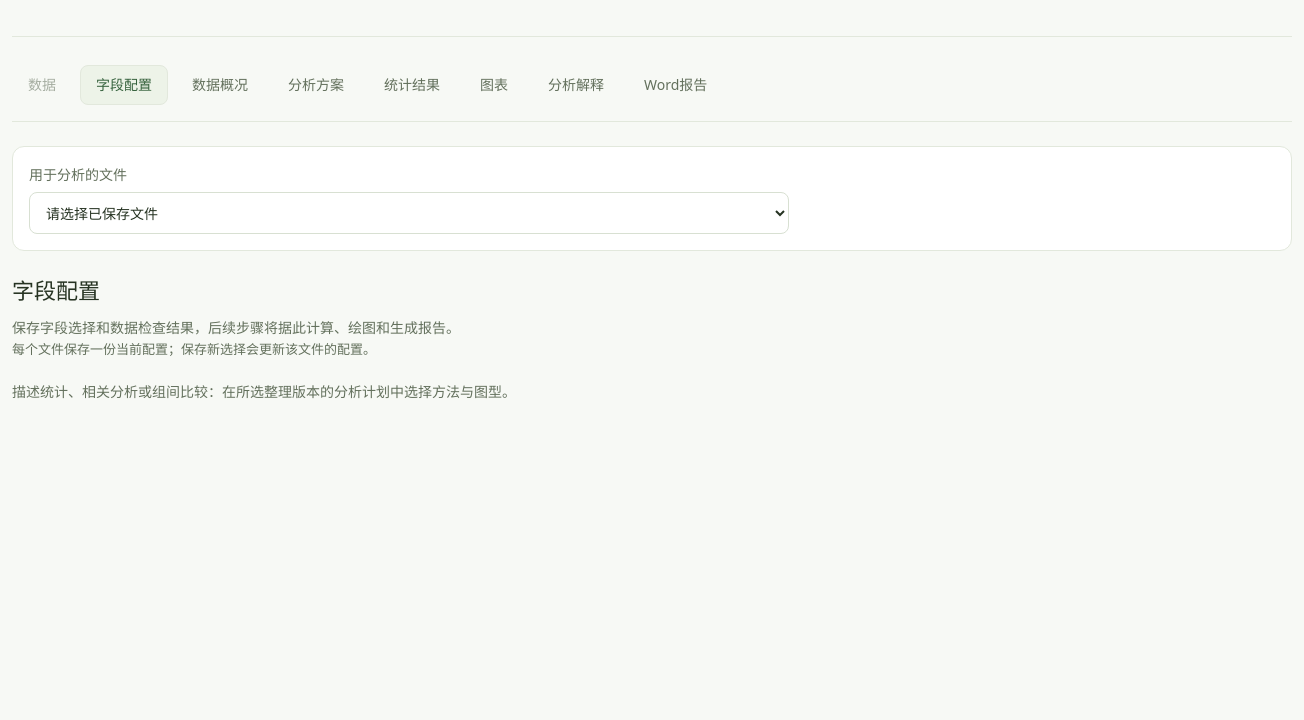
saved dataset execution waits for the dataset profile to load successfully
Select "研究.xlsx · 2026/10/10 01:00:00" in the dropdown labelled "用于分析的文件": coordinates (409, 213) [29,192,789,234]
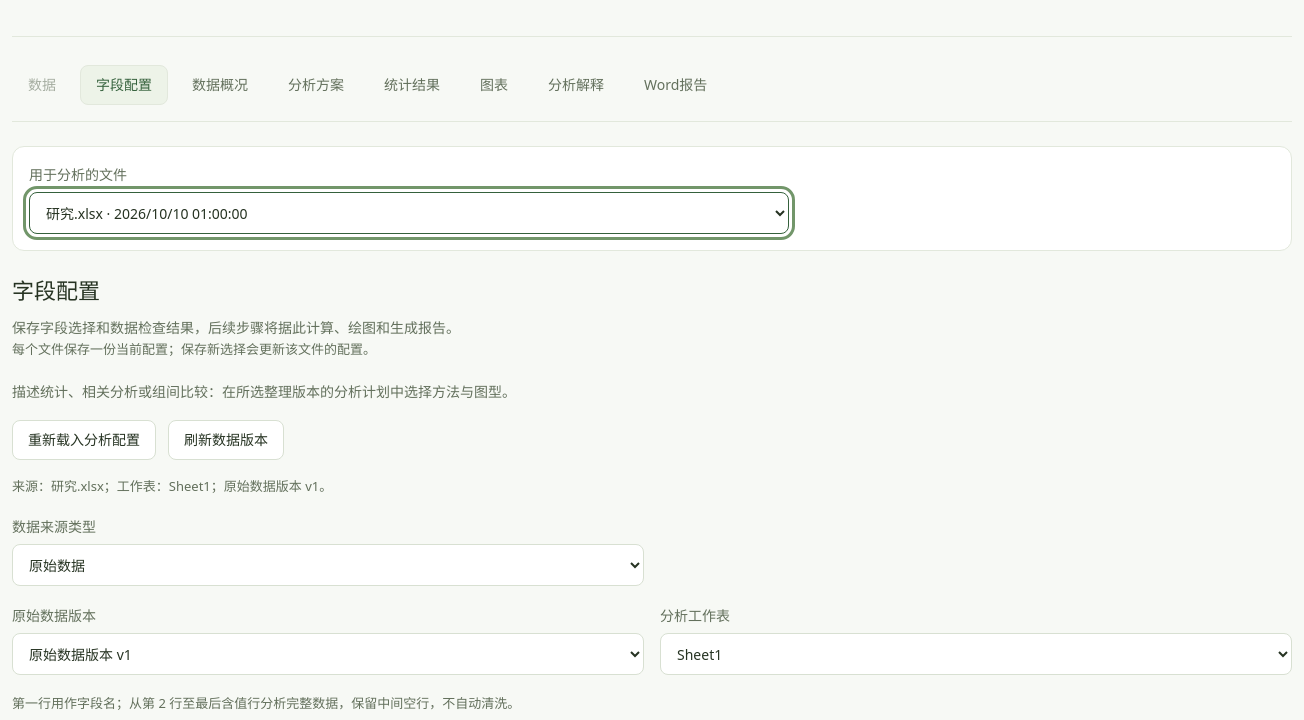
Click the button "统计结果": coordinates (412, 85) [368,65,456,105]
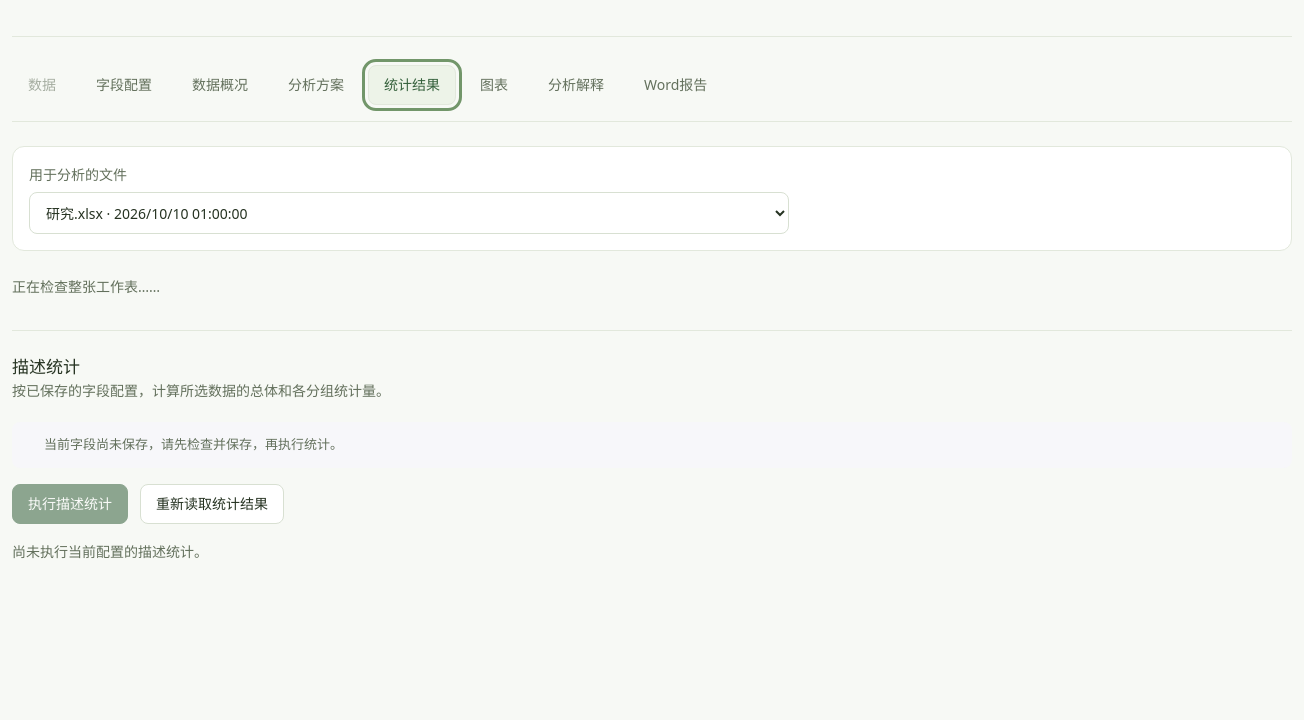
Expected: the button "执行描述统计" is disabled, [12,484,128,524]
